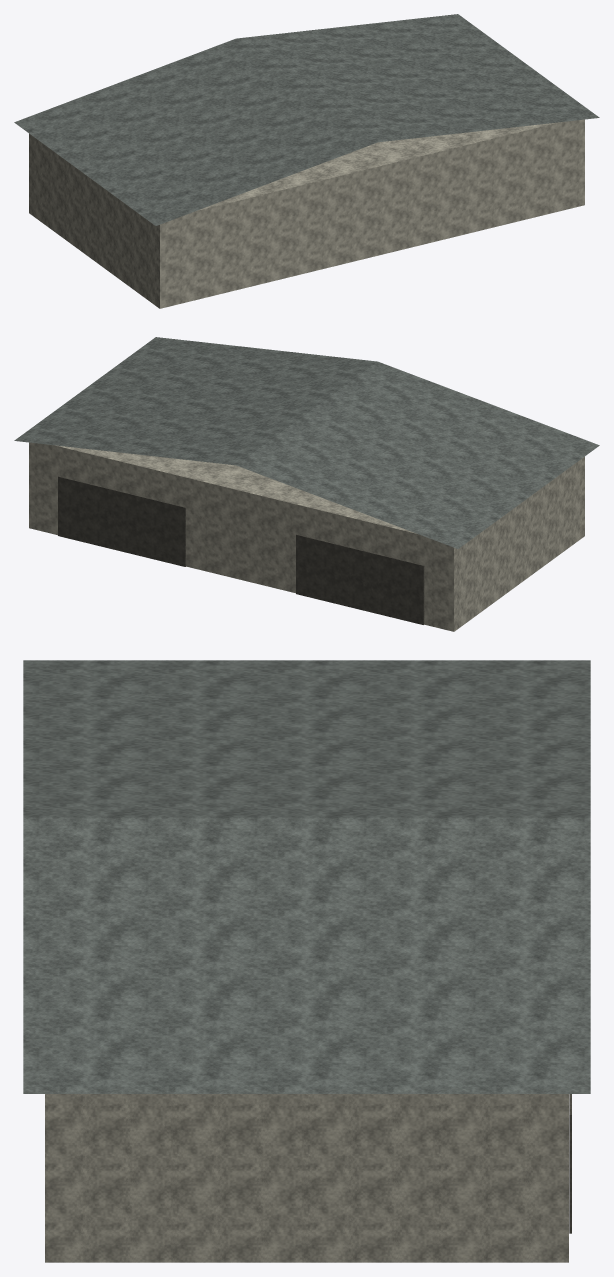
The model's file is Strategic_RailDepot.fbx.
3 views of the same model, one above another, from view 1: azimuth 30°, elevation 25°; view 2: azimuth 150°, elevation 25°; view 3: azimuth 270°, elevation 25° (orthographic). The views are drawn at different scales.
Parts seen in each view (by area): view 1: Strategic_RailDepot; view 2: Strategic_RailDepot; view 3: Strategic_RailDepot.
Part boxes in pixels (x1,y1,x2,y2): Strategic_RailDepot: (14,14,599,308); Strategic_RailDepot: (14,337,599,631); Strategic_RailDepot: (23,660,590,1262).
Size of the model in its own units: 4700 by 1200 by 2600.
